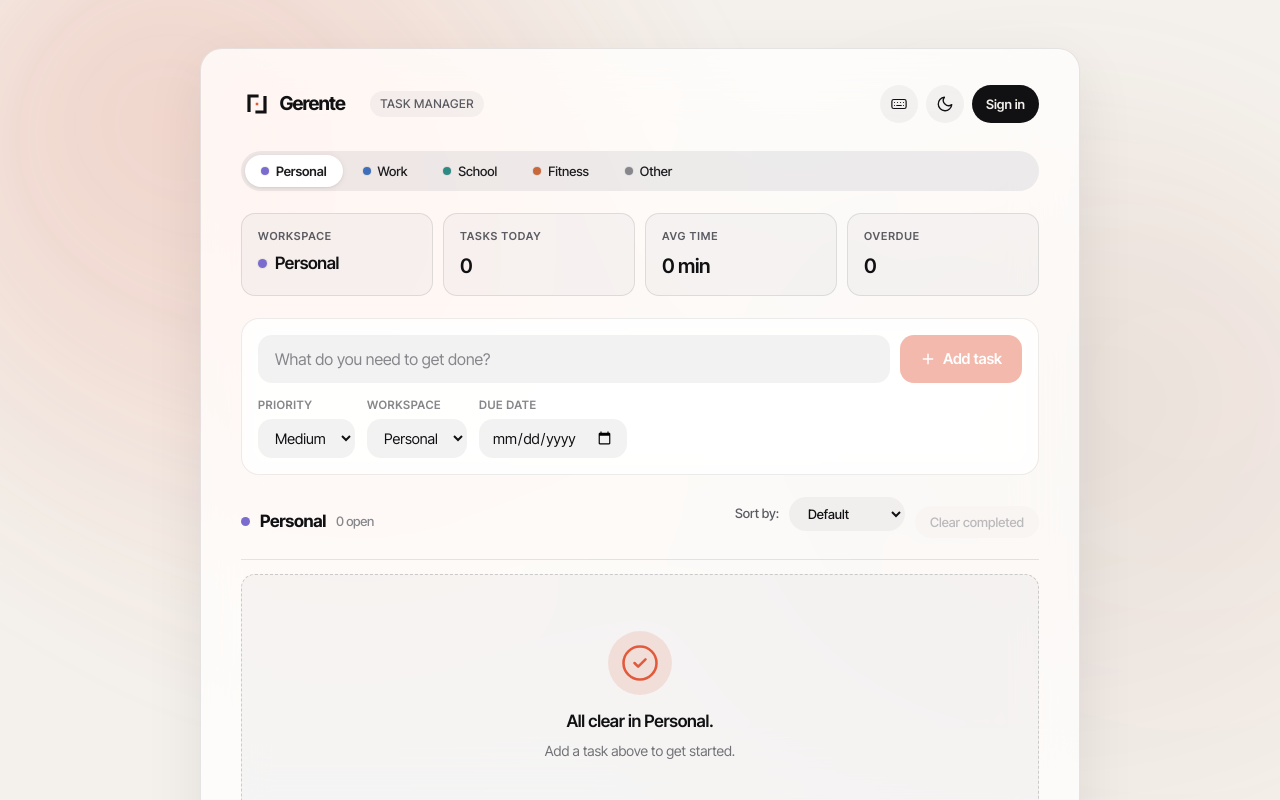
Test: workspaces › a task added after switching workspaces lands in the one on screen
Click the button "Work" at point(385, 171), box left=347, top=155, right=423, bottom=187
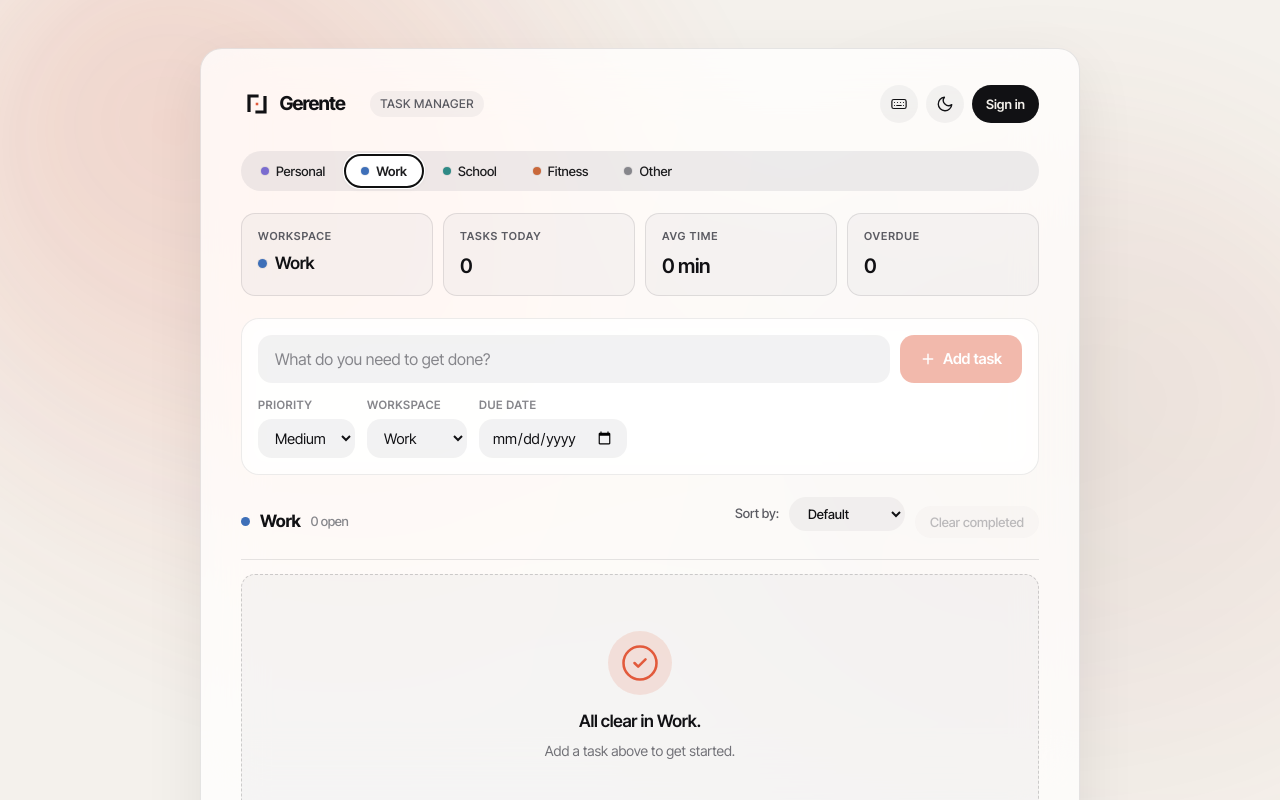
Type "Quarterly review" into the field named "Task description" at point(574, 358), box left=258, top=334, right=890, bottom=382
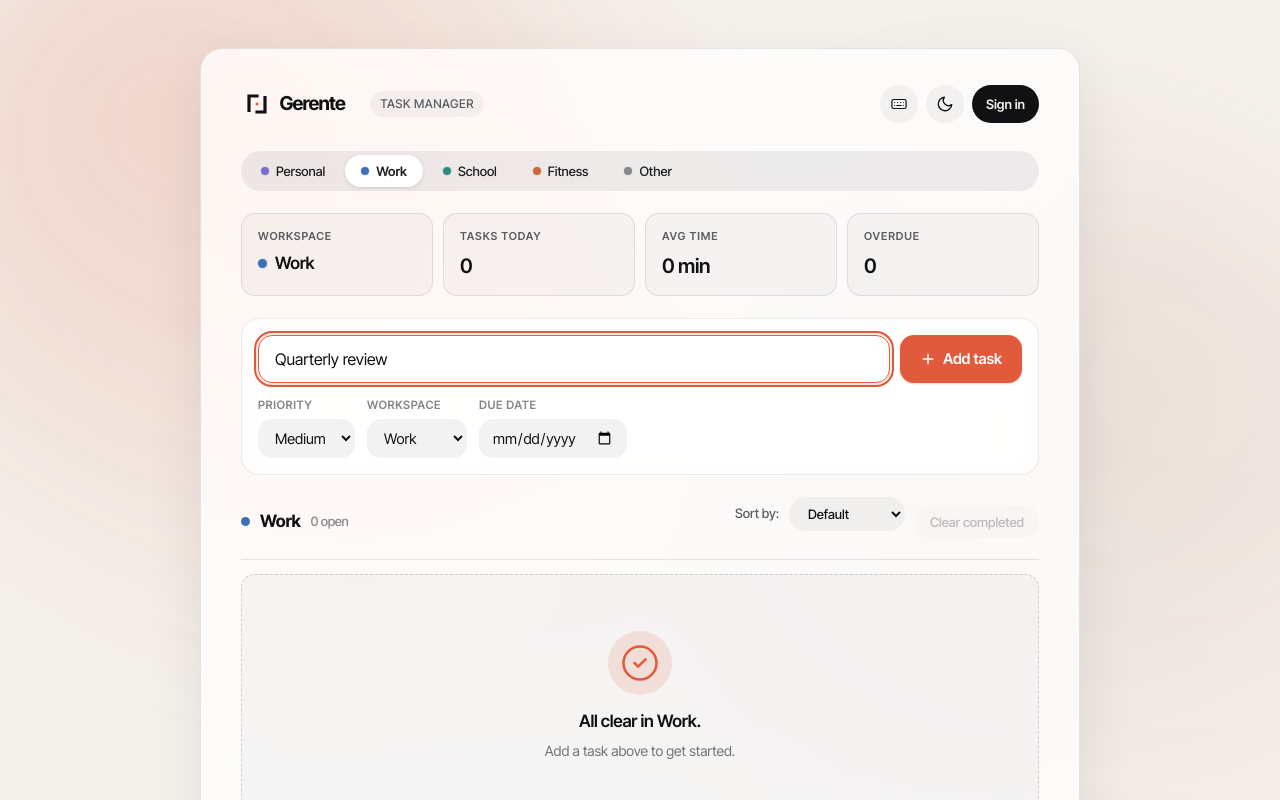
Click the button "Add task" at point(961, 358), box left=900, top=334, right=1022, bottom=382
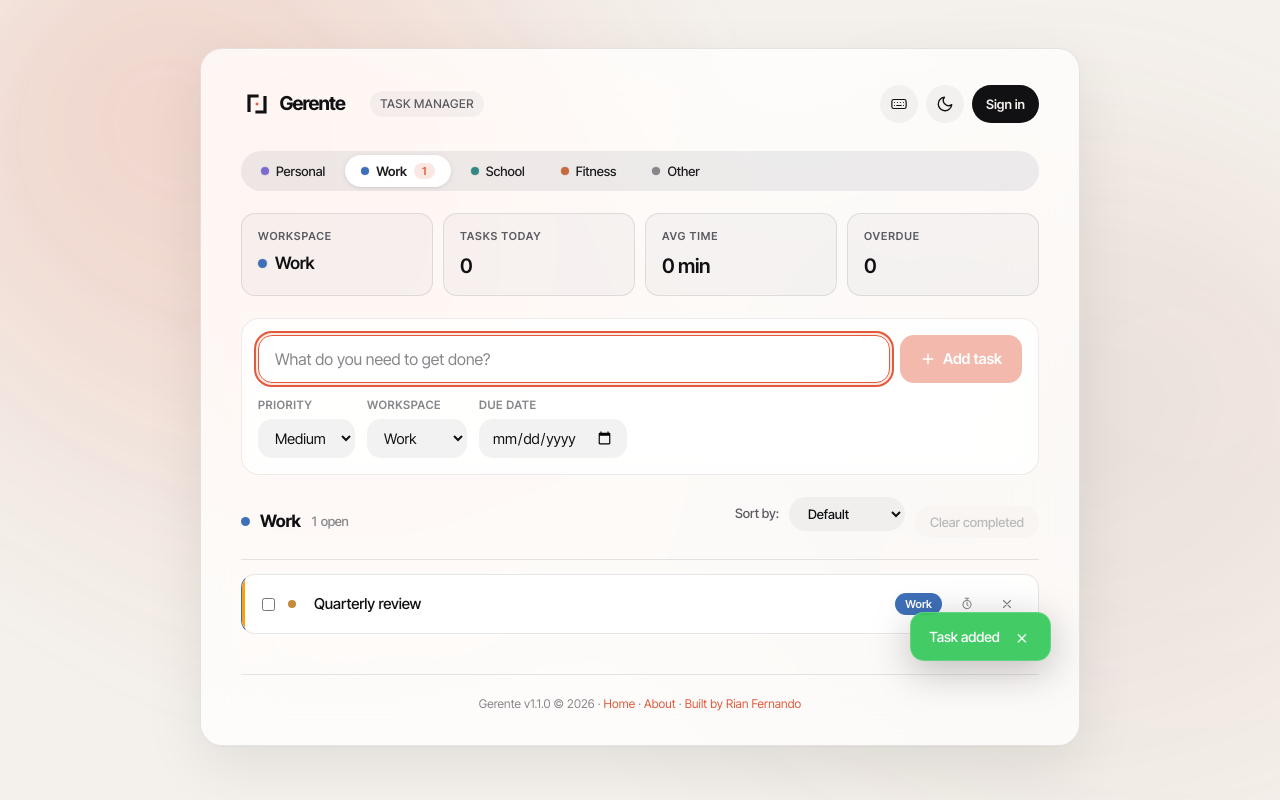
Check: the button "Quarterly review" is shown, box left=314, top=594, right=421, bottom=613
